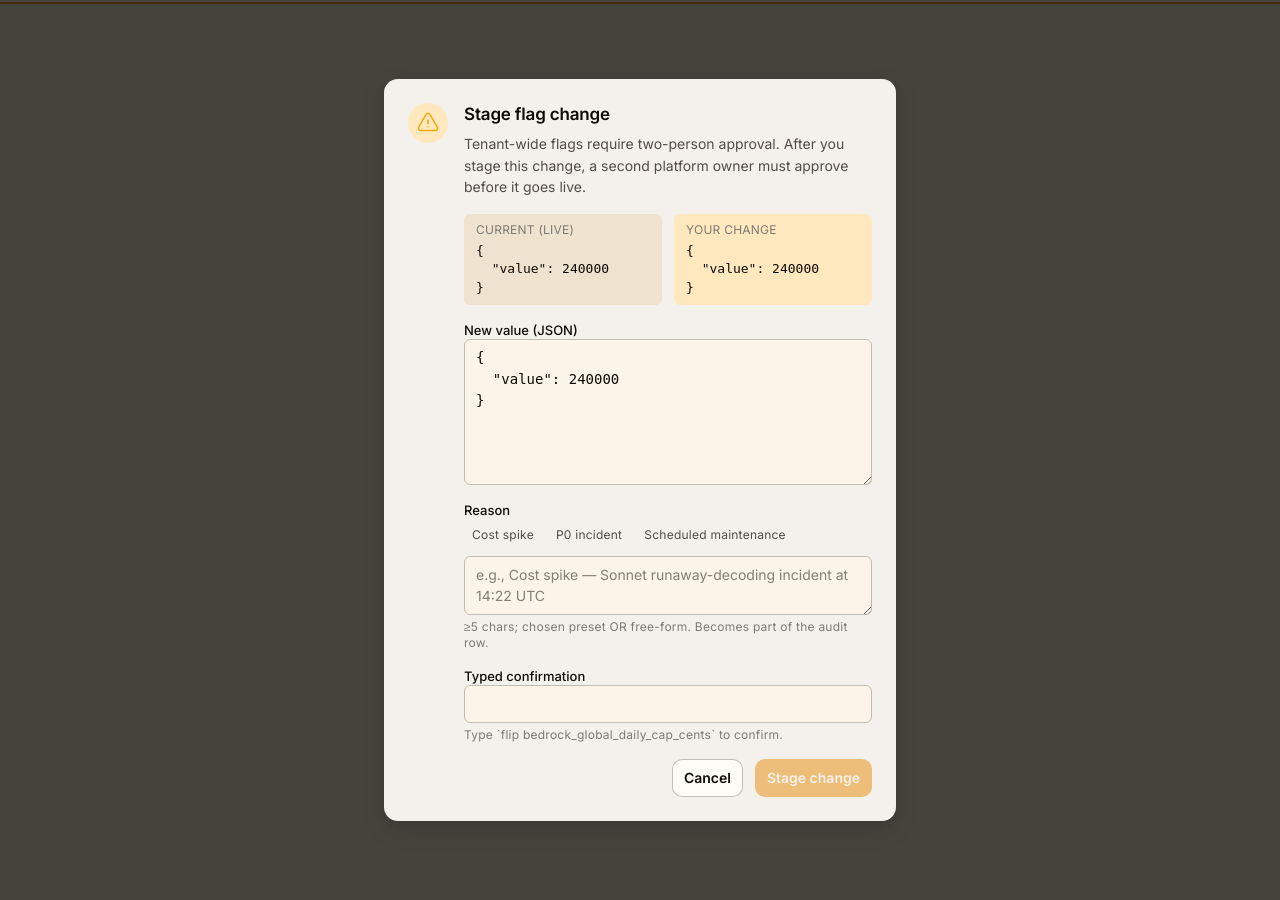
Scenario: FlagEditModal › tenant-wide flag requires typed-confirm phrase
Type "Cost spike" into the text box labelled "Reason" at (668,585), box [464, 556, 872, 615]
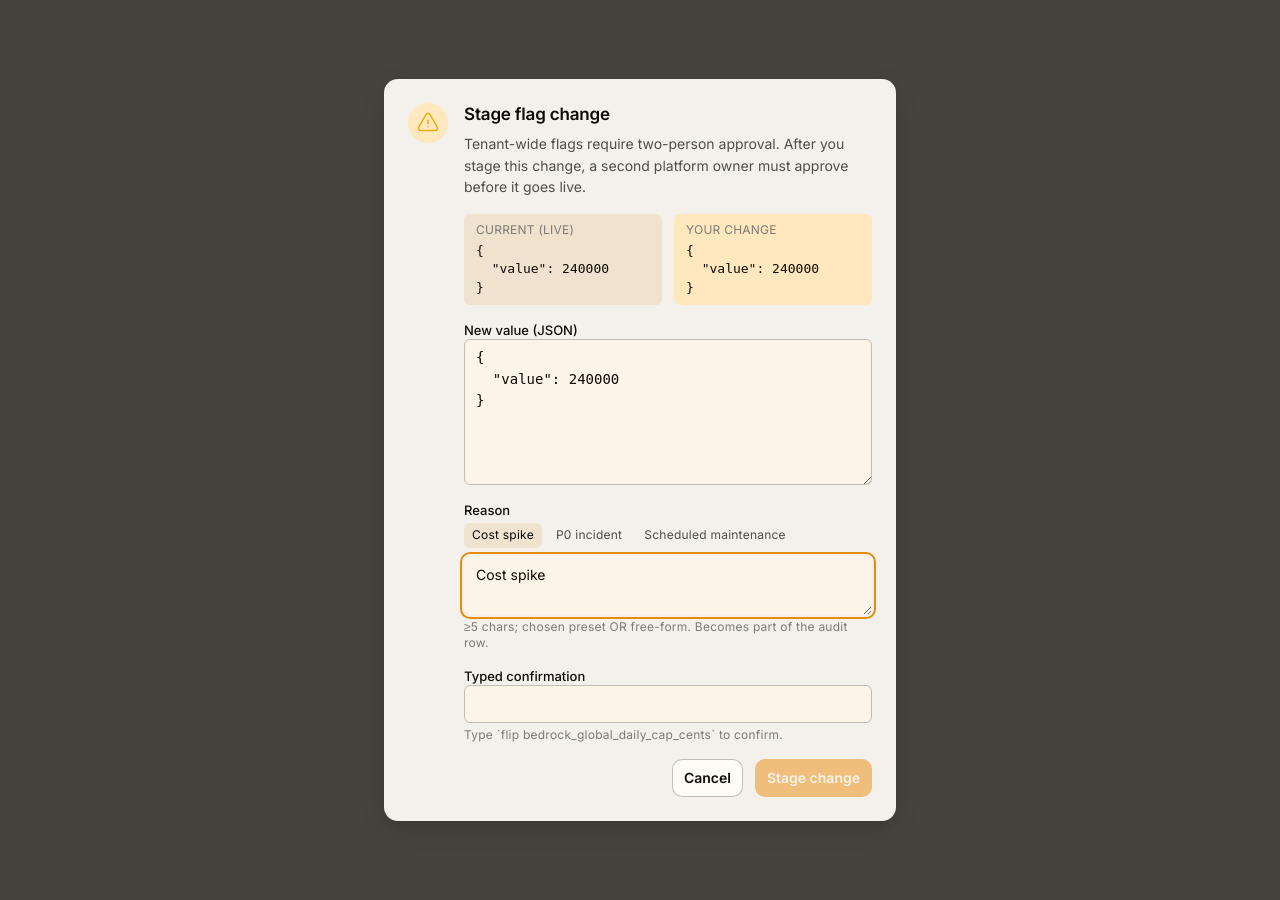
expect the button "Stage change" is disabled: met, box [755, 759, 872, 797]
Type "wrong phrase" into the field labelled "Typed confirmation" at (668,704), box [464, 686, 872, 723]
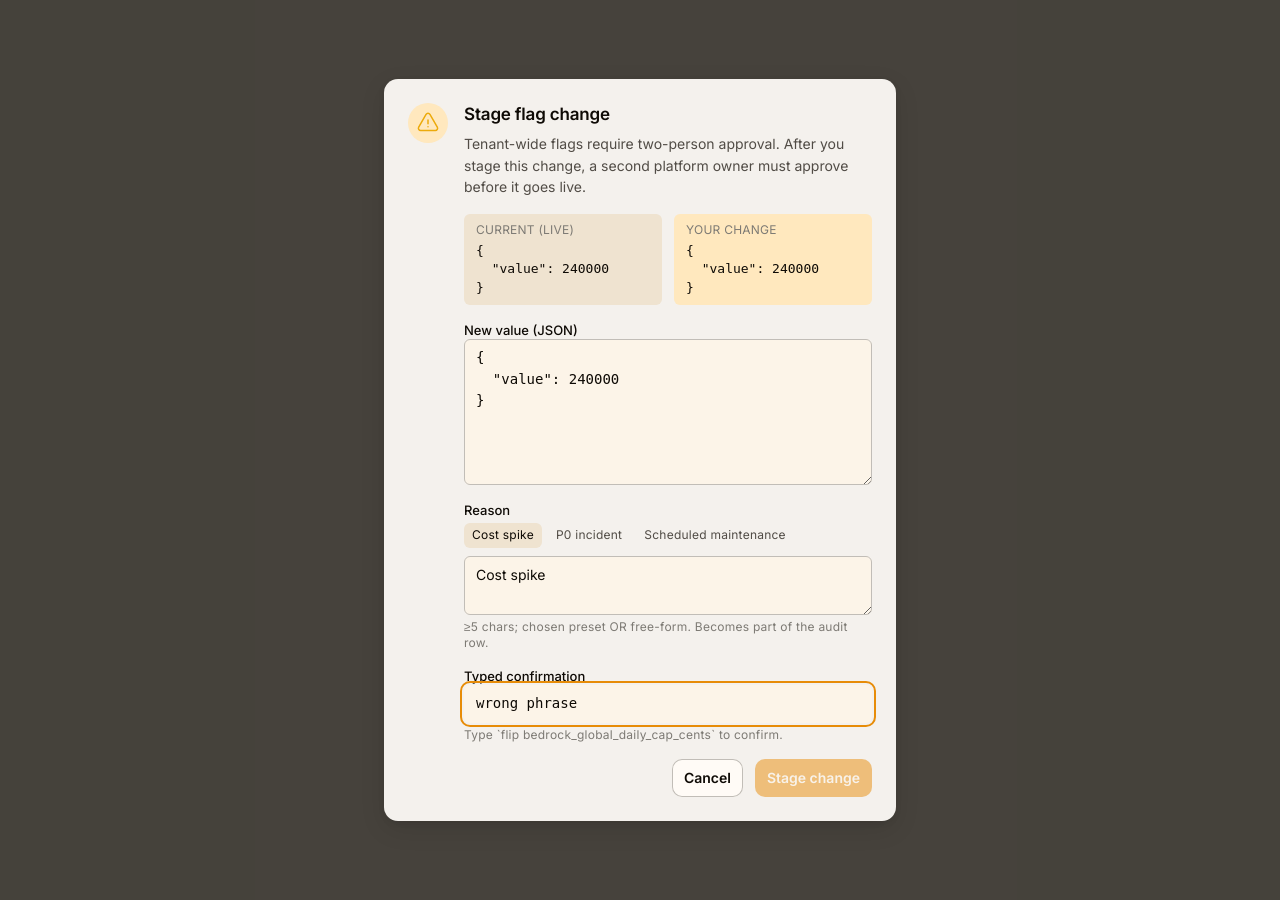
expect the button "Stage change" is disabled: met, box [755, 759, 872, 797]
Replace the text in the field labelled "Typed confirmation" with "flip bedrock_global_daily_cap_cents" at (668,704), box [464, 686, 872, 723]
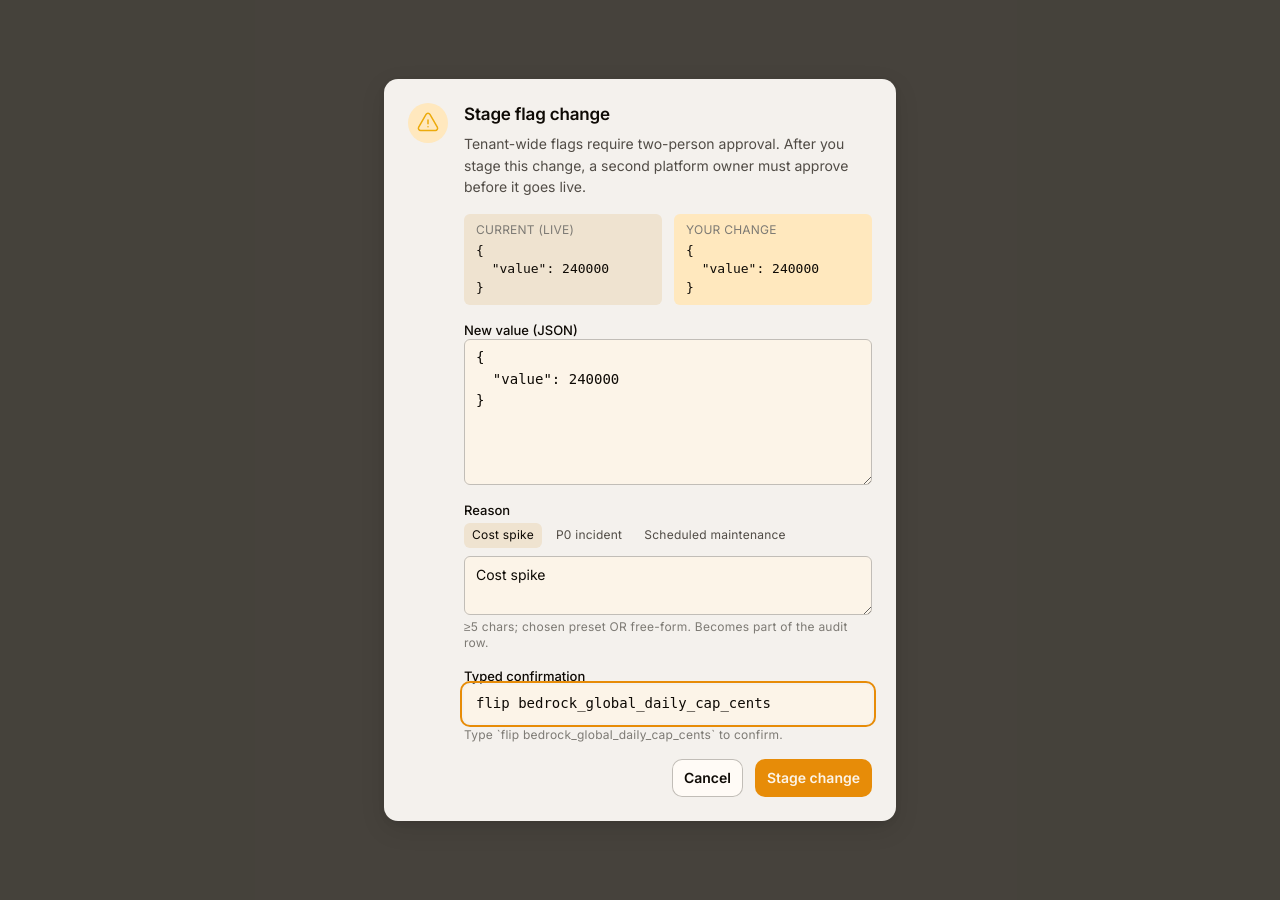
expect the button "Stage change" is enabled: met, box [755, 759, 872, 797]
